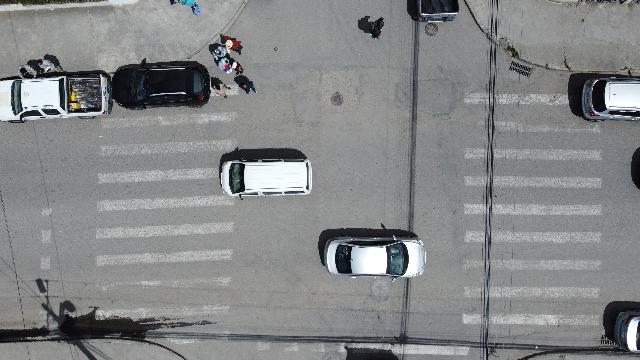Vehiculo: (318, 226, 426, 282), (1, 70, 113, 122), (110, 63, 212, 112), (218, 157, 314, 199), (576, 74, 640, 127), (610, 306, 640, 356)
